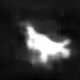plane: (18, 20, 71, 67)
